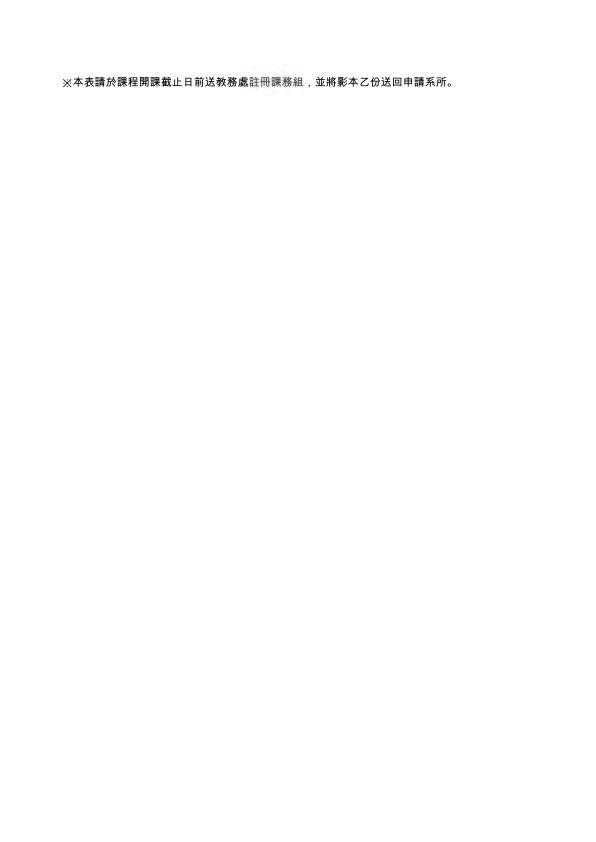text: (55, 72, 462, 92)
